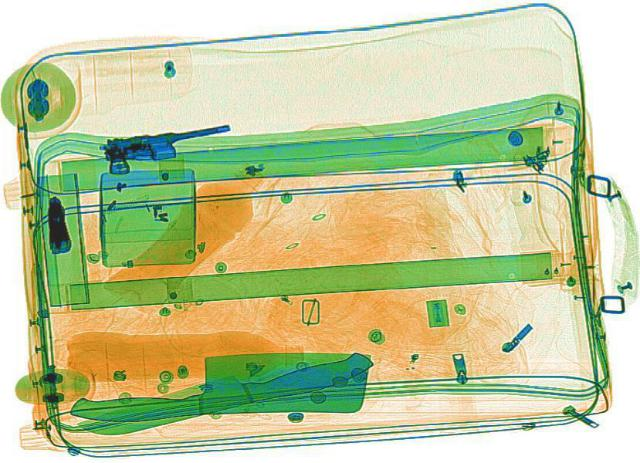Gun: (95, 118, 238, 175), (38, 194, 72, 253)
Knife: (71, 346, 381, 439), (66, 346, 374, 423)
